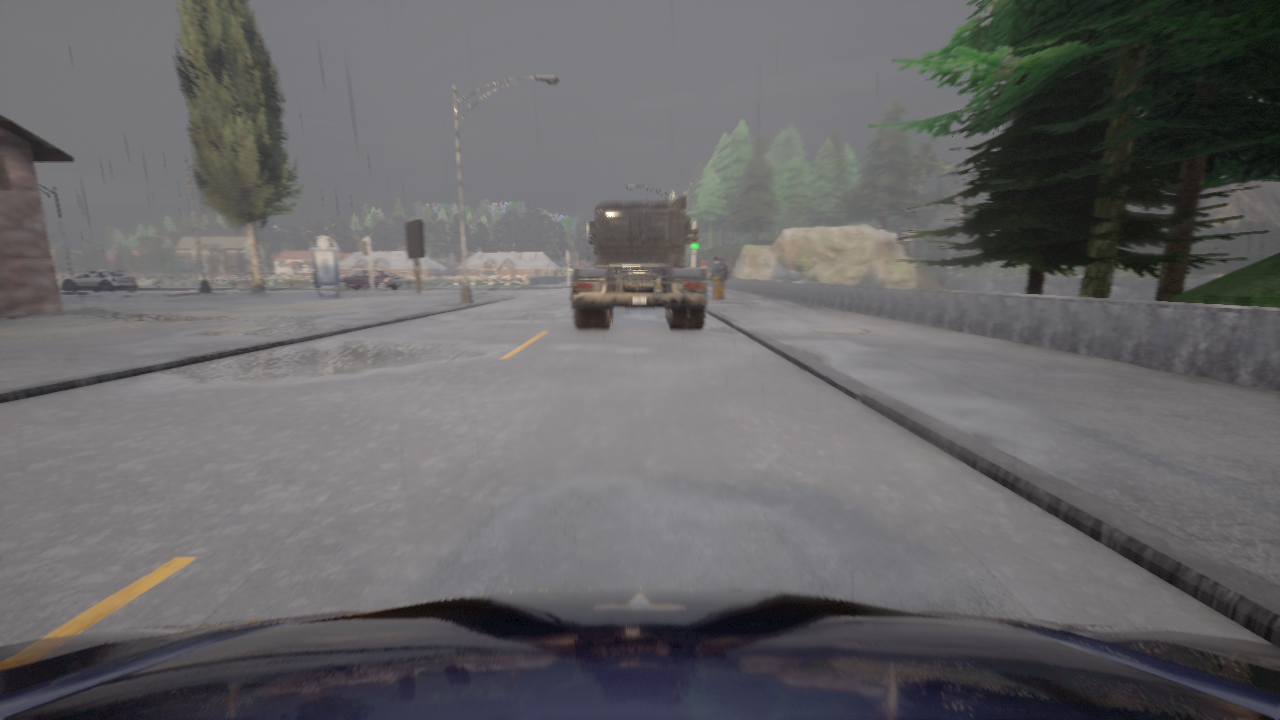cyclist: (0, 588, 1279, 719), (571, 195, 707, 329), (62, 270, 137, 290), (340, 269, 401, 290)
pedestrian: (710, 256, 723, 298), (719, 257, 727, 298), (700, 260, 707, 274)
